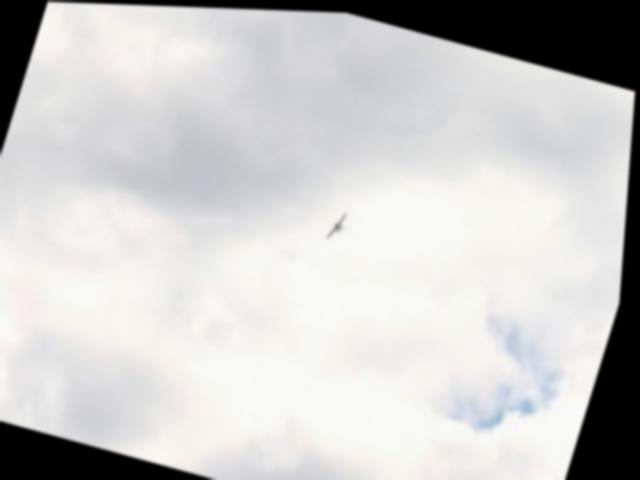uav: (326, 201, 355, 240)
